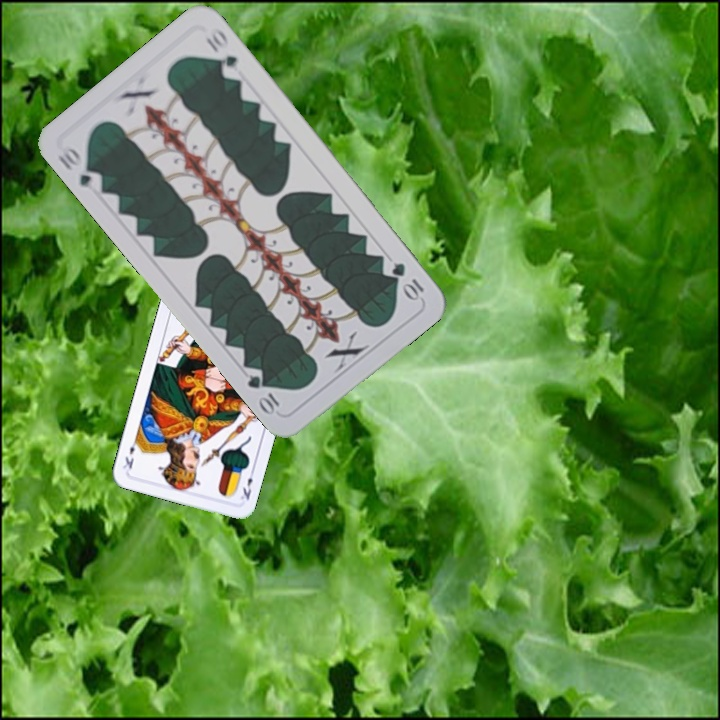EK: (237, 465, 257, 502)
G10: (53, 141, 106, 195), (387, 258, 427, 303)
